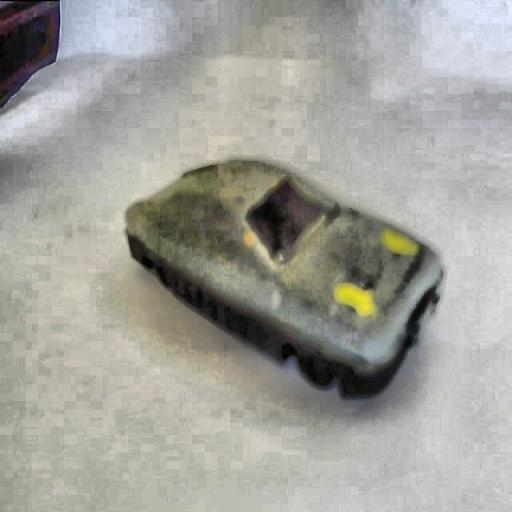normal_car: (118, 150, 450, 404)
